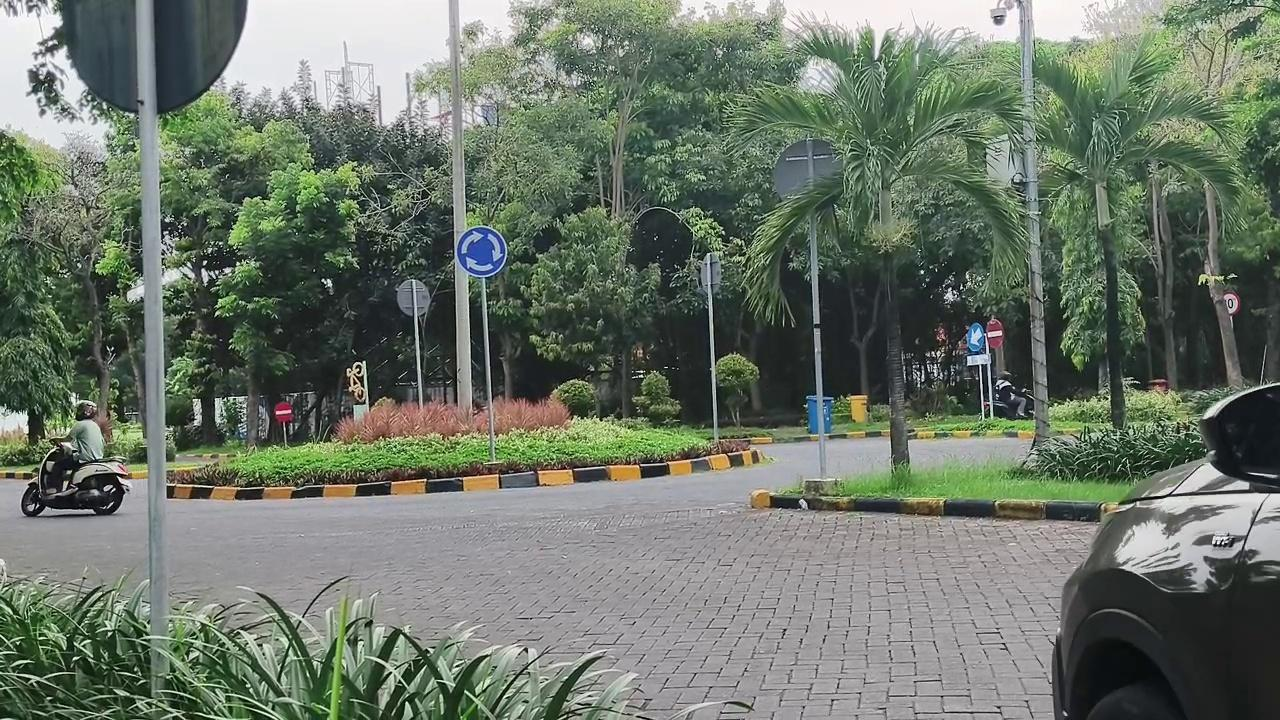Helmet: (43, 401, 104, 493), (994, 371, 1027, 417)
Motor: (21, 442, 131, 516), (984, 390, 1033, 419)
